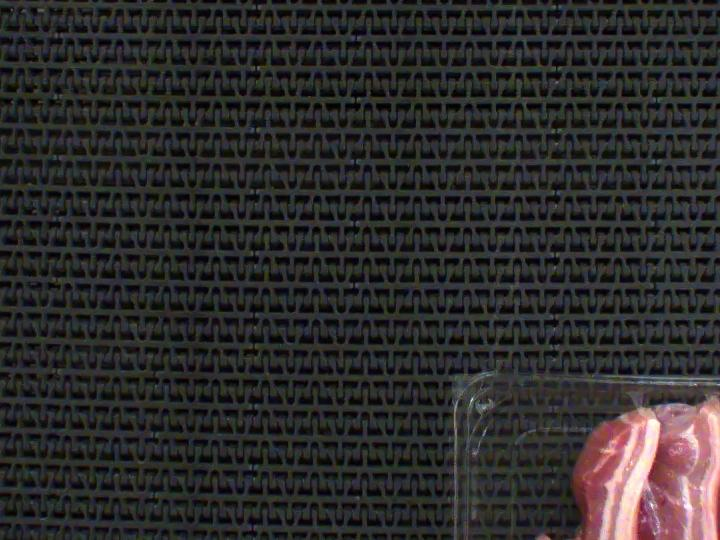packaging-error: (620, 380, 657, 412)
